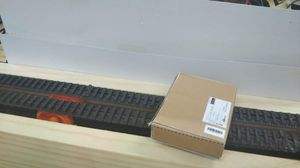box2: (149, 71, 238, 159)
